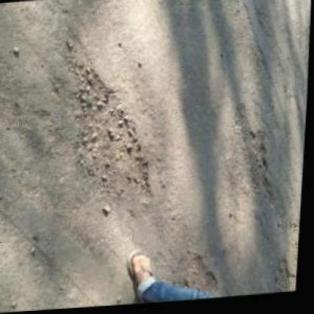Hueco: (59, 54, 163, 214), (241, 129, 278, 210), (182, 256, 224, 299)
